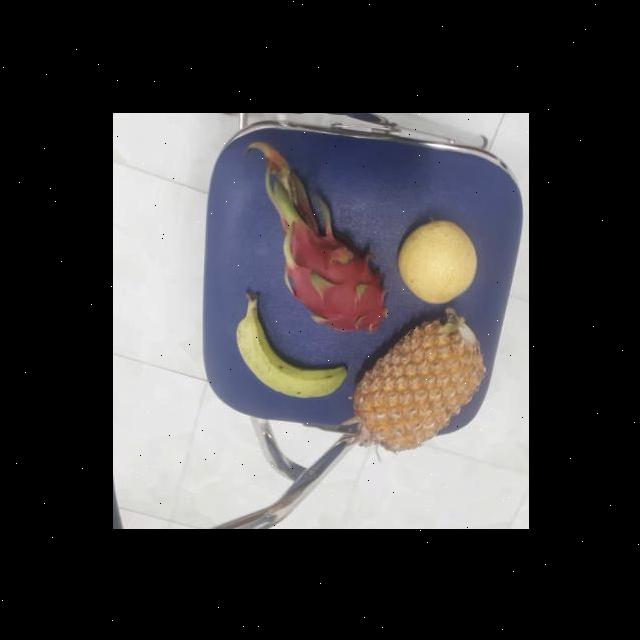banana: (236, 297, 352, 398)
pear: (397, 218, 480, 300)
pineapple: (352, 312, 488, 448)
pitaya: (280, 220, 394, 332)
